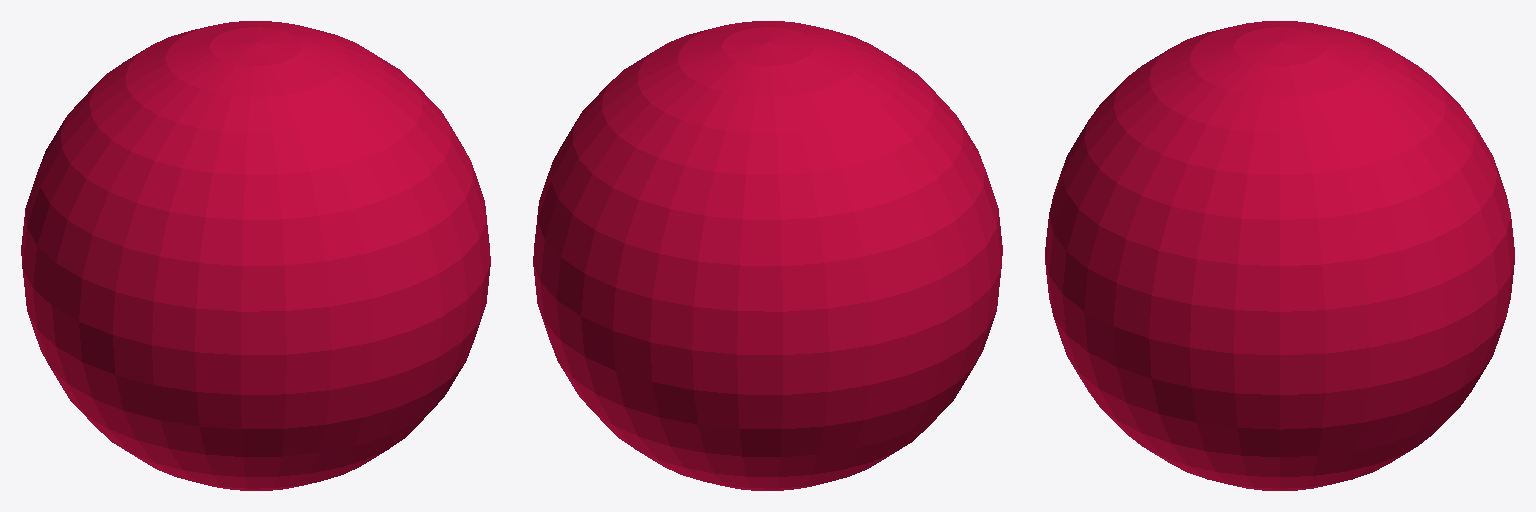
File: SampleObjectWithTexture.obj
The picture shows the model from 3 angles: view 1: azimuth 30°, elevation 25°; view 2: azimuth 150°, elevation 25°; view 3: azimuth 270°, elevation 25°; orthographic projection.
Parts seen in each view (by area): view 1: Sphere; view 2: Sphere; view 3: Sphere.
Part boxes in pixels (x1,y1,x2,y2): Sphere: (21, 21, 490, 490); Sphere: (533, 21, 1002, 490); Sphere: (1045, 21, 1514, 490).
Size of the model in its own units: 2 by 2 by 2.